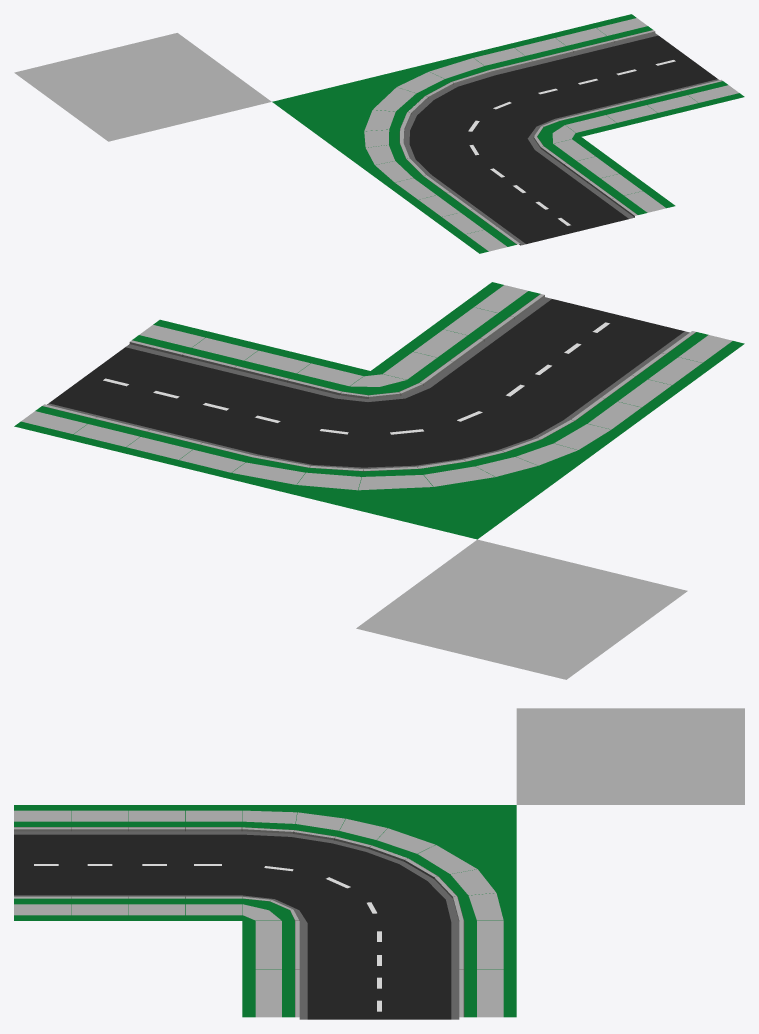
File: Road-L-H.fbx
3 views of the same model, one above another, from view 1: azimuth 30°, elevation 25°; view 2: azimuth 150°, elevation 25°; view 3: azimuth 270°, elevation 25° (orthographic). The views are drawn at different scales.
Parts seen in each view (by area): view 1: Sides, Road; view 2: Sides, Road; view 3: Sides, Road.
Part boxes in pixels (x1,y1,x2,y2): Sides: [14, 14, 744, 253]; Road: [403, 33, 719, 245]; Sides: [14, 282, 744, 679]; Road: [47, 297, 689, 468]; Sides: [14, 708, 744, 1017]; Road: [14, 831, 459, 1019].
Size of what is drawn, in the model's own units: 64 by 0.2059 by 64.
